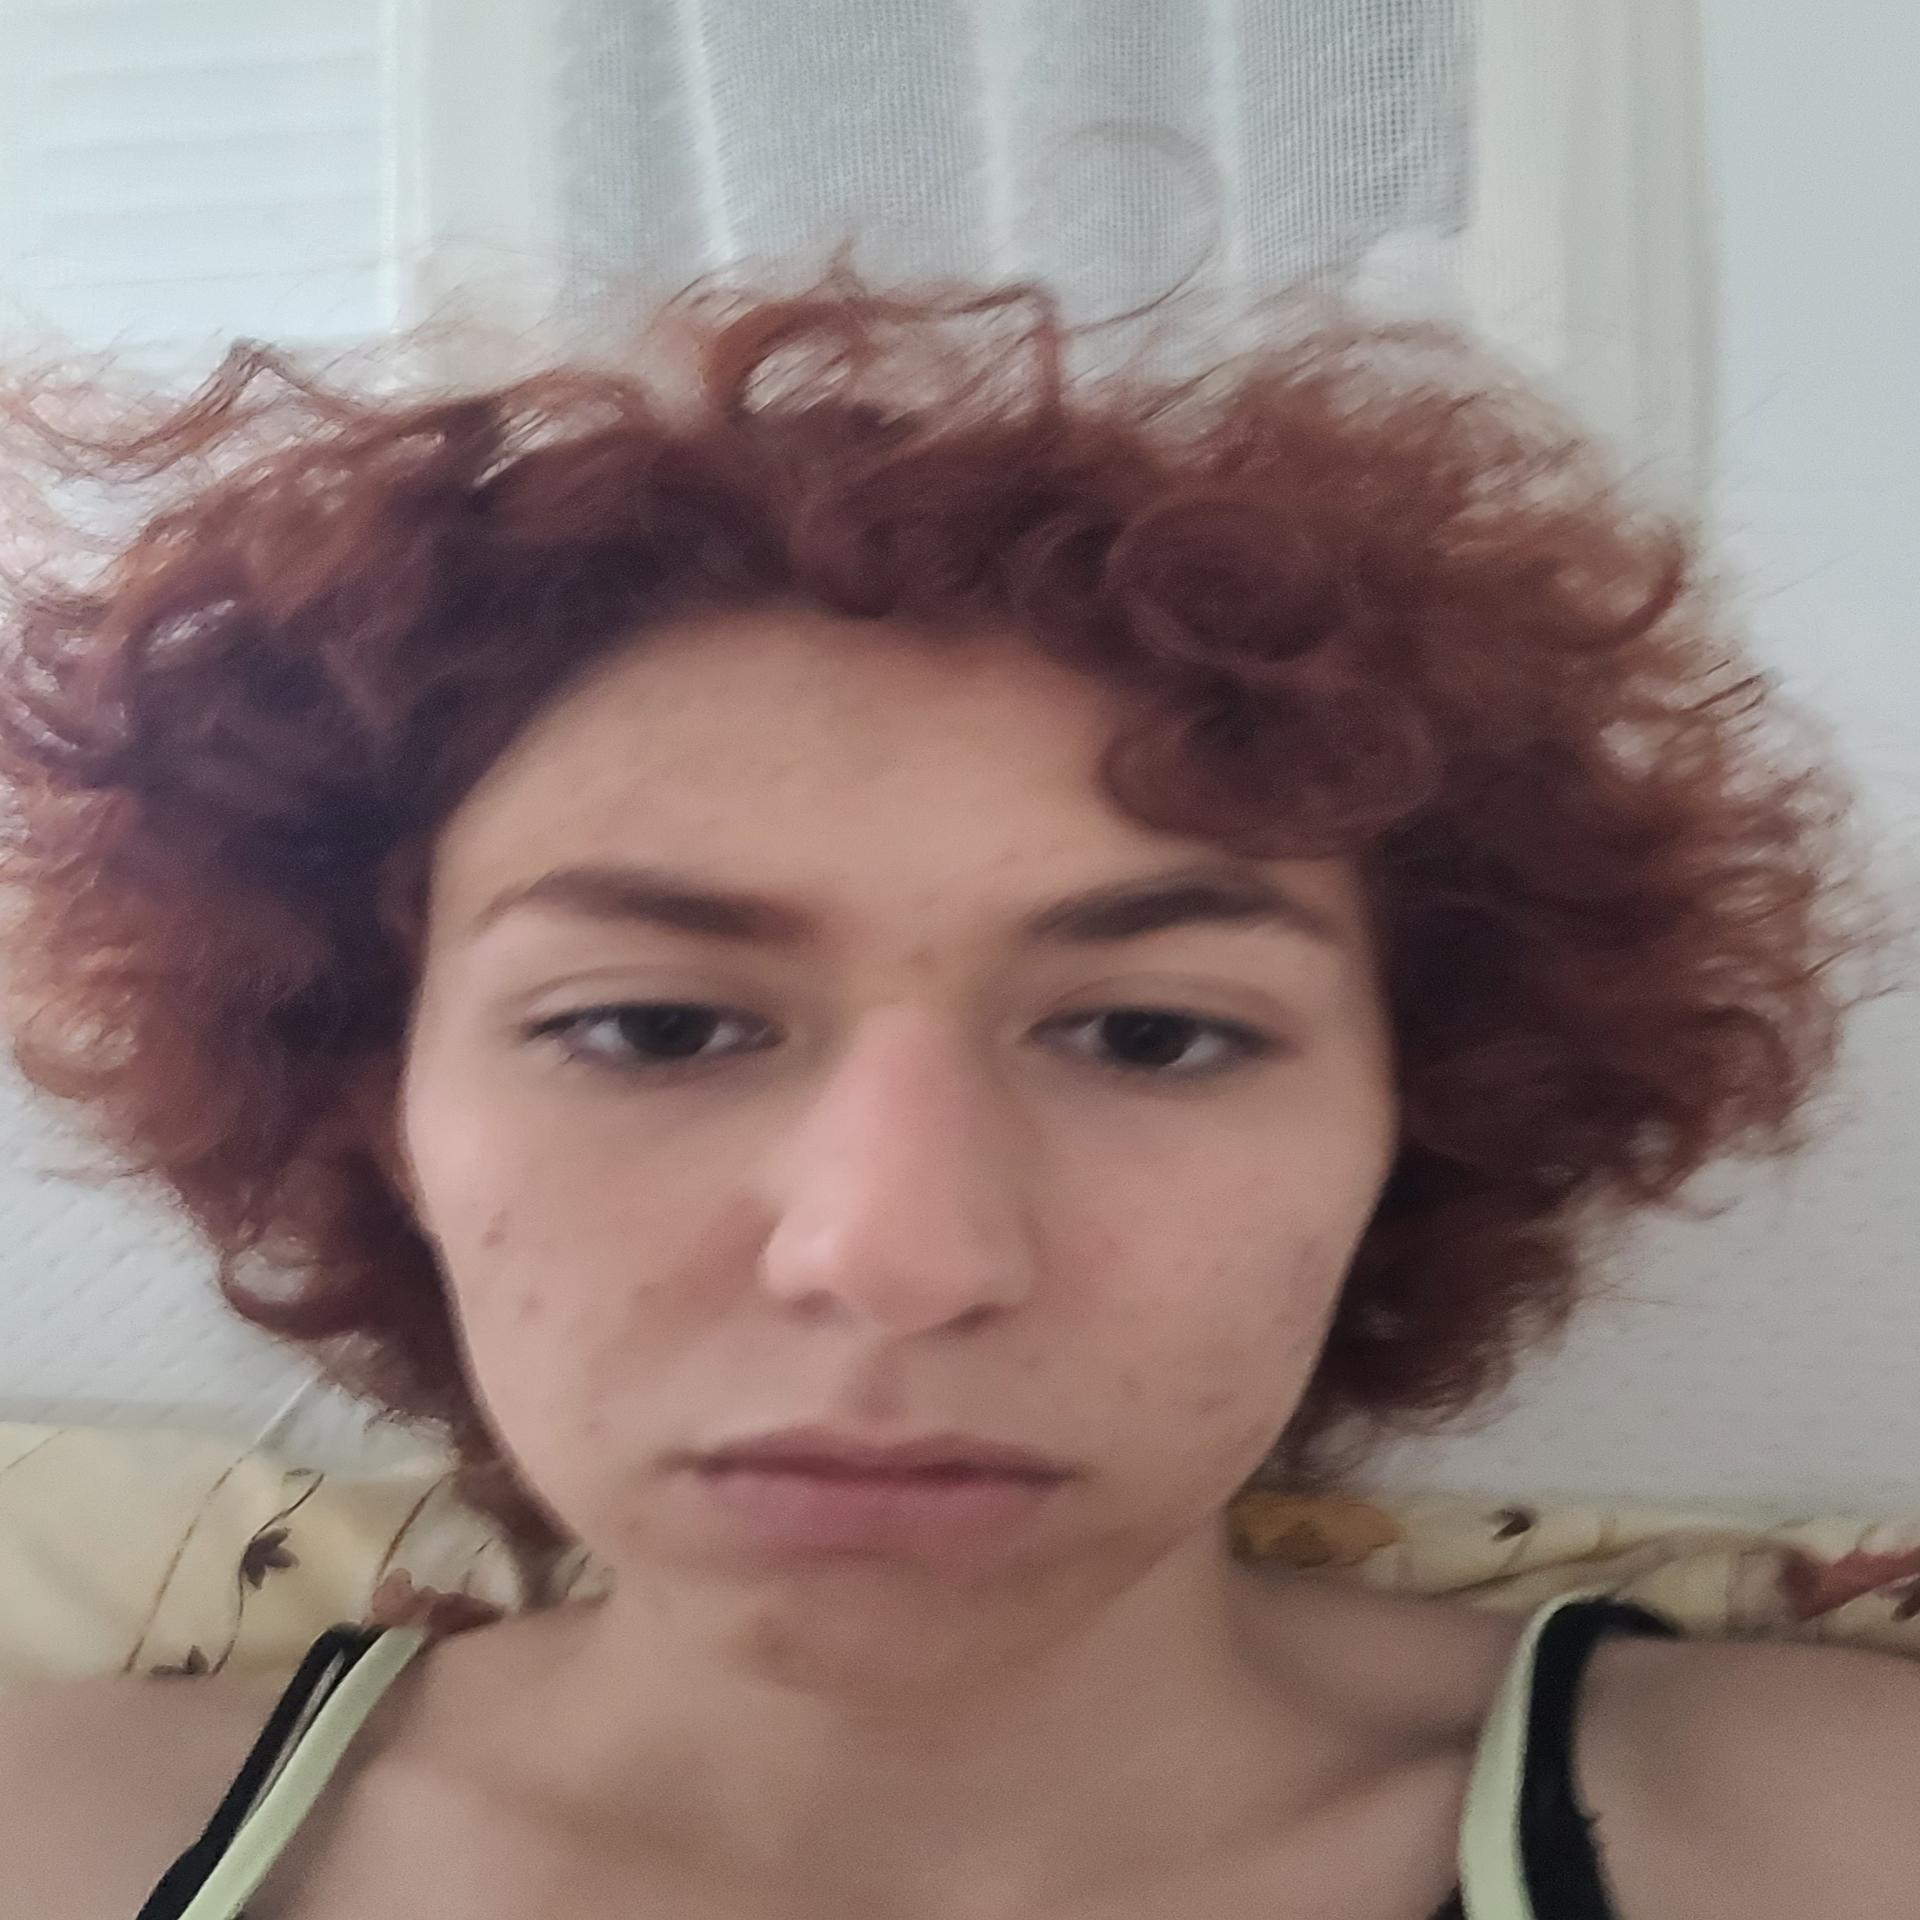Acne: (1208, 1419, 1268, 1479), (731, 1607, 802, 1651), (1285, 1227, 1322, 1310), (478, 1208, 512, 1255), (1189, 1387, 1243, 1414), (508, 1291, 550, 1324), (905, 941, 939, 978), (1013, 1347, 1051, 1378), (624, 1275, 665, 1305), (1166, 1248, 1204, 1278), (1115, 1368, 1146, 1403), (1094, 1234, 1125, 1268), (571, 1414, 607, 1442), (988, 842, 1027, 867), (909, 886, 944, 911), (617, 1510, 647, 1537), (1208, 1255, 1233, 1284)
